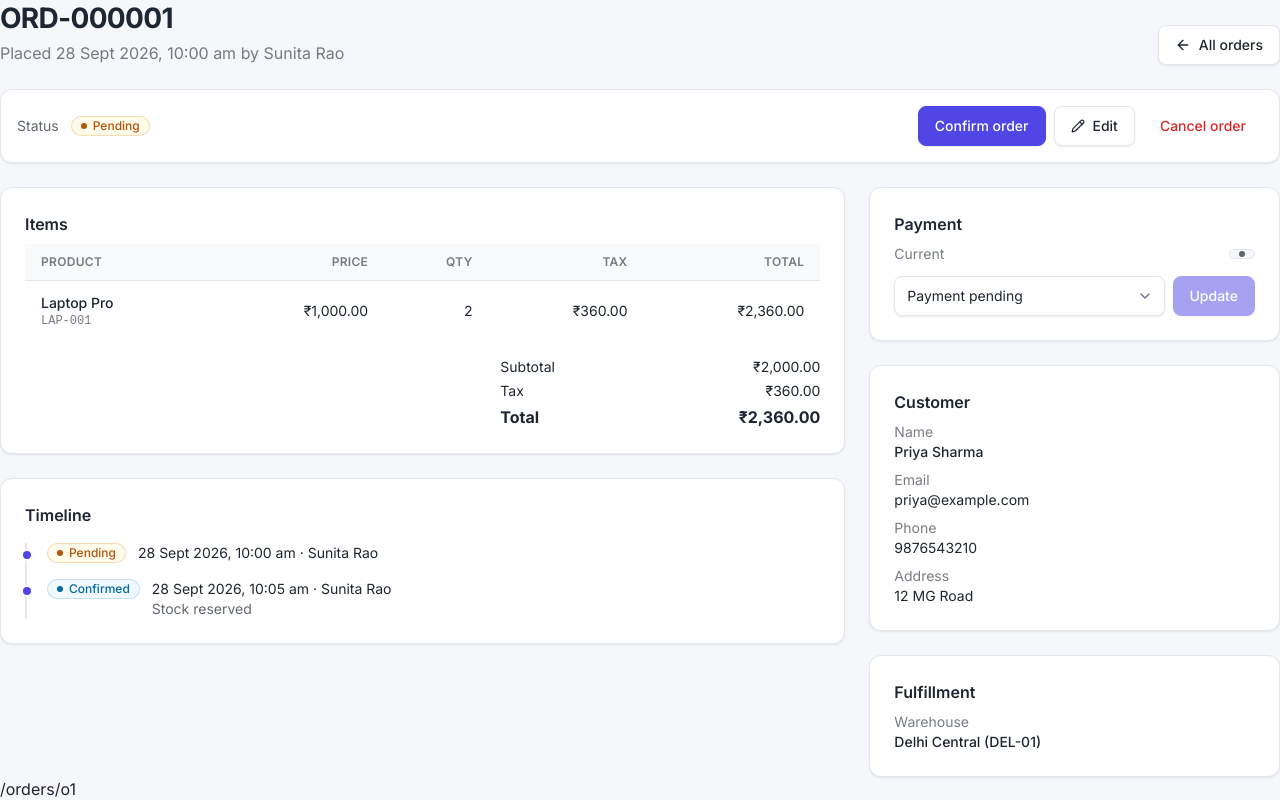
Test: OrderDetailPage › confirming asks first, then reserves stock and reloads the order
The width and height of the screenshot is (1280, 800).
Click the button with aria-label "Confirm order ORD-000001". click: (982, 126)
box: top-left (918, 106), bottom-right (1046, 146)
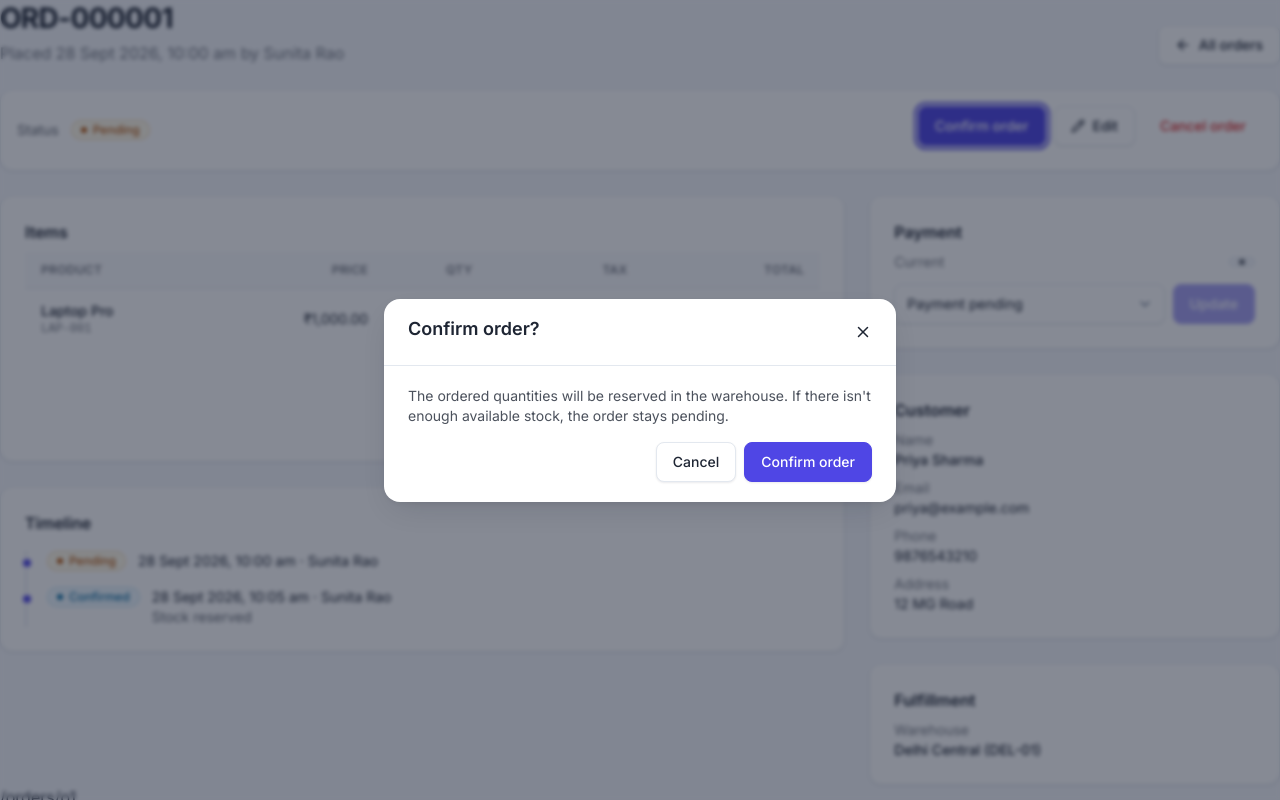
Click the button "Confirm order". click: (808, 462)
box: top-left (744, 442), bottom-right (872, 482)
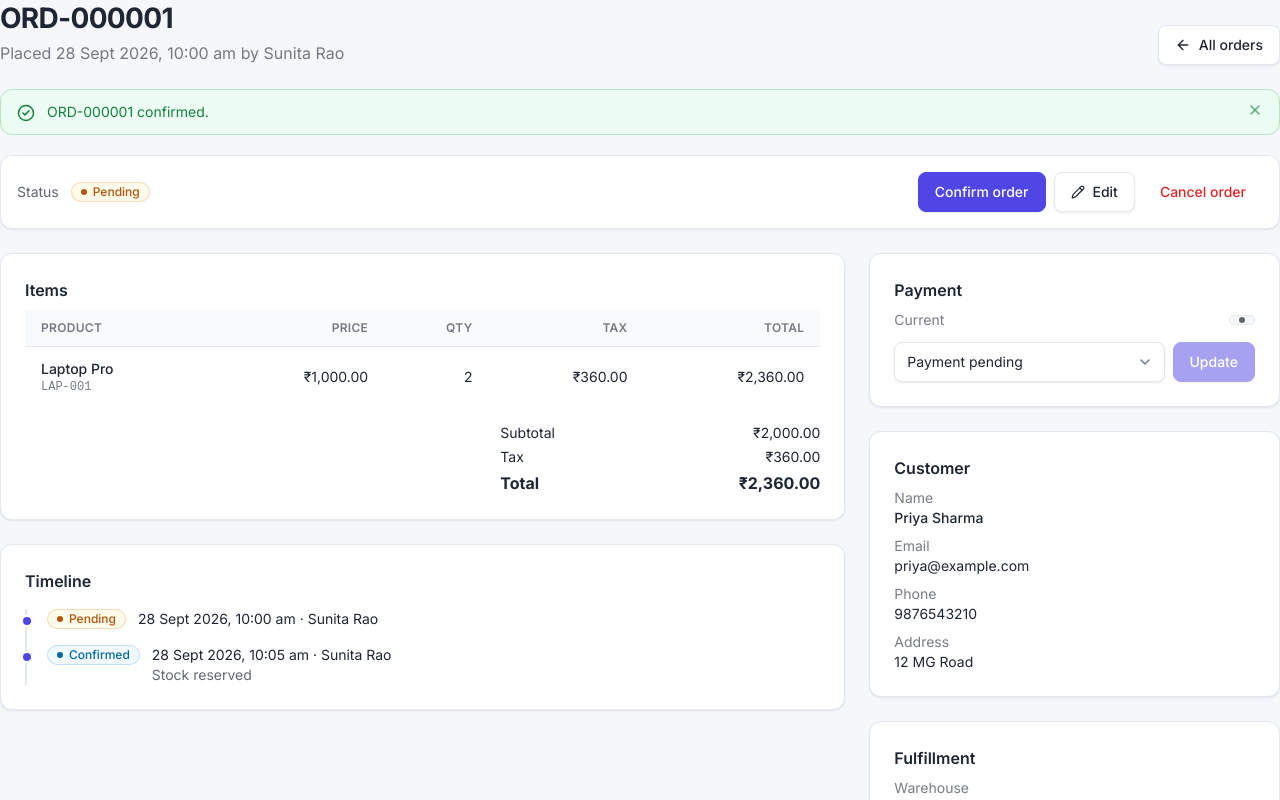
Result: the text "ORD-000001 confirmed." is shown at top-left (47, 103), bottom-right (209, 120)
